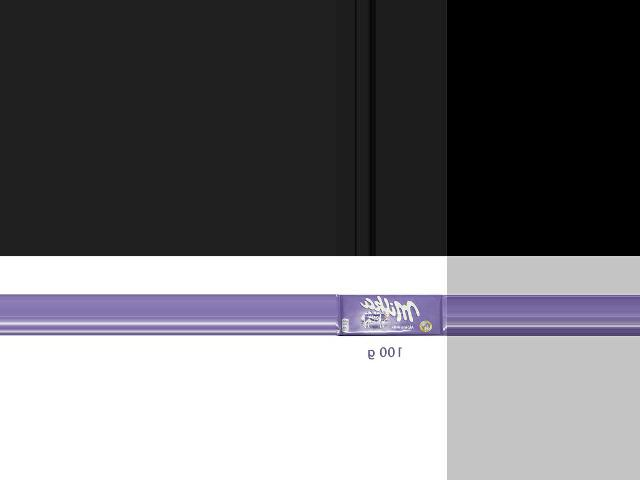chocolate: (334, 293, 443, 343)
